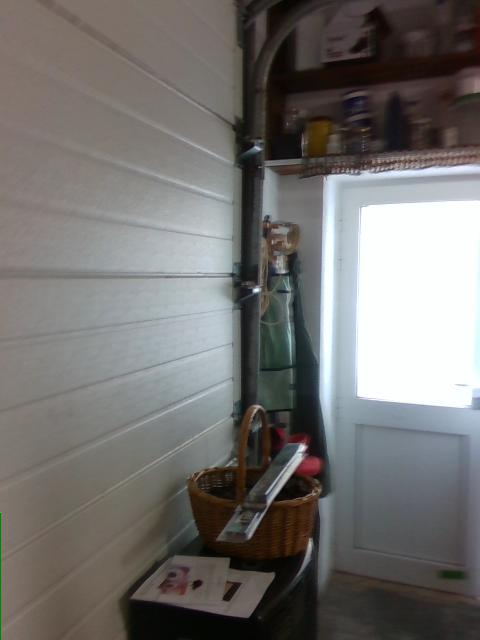door: (330, 171, 478, 598)
